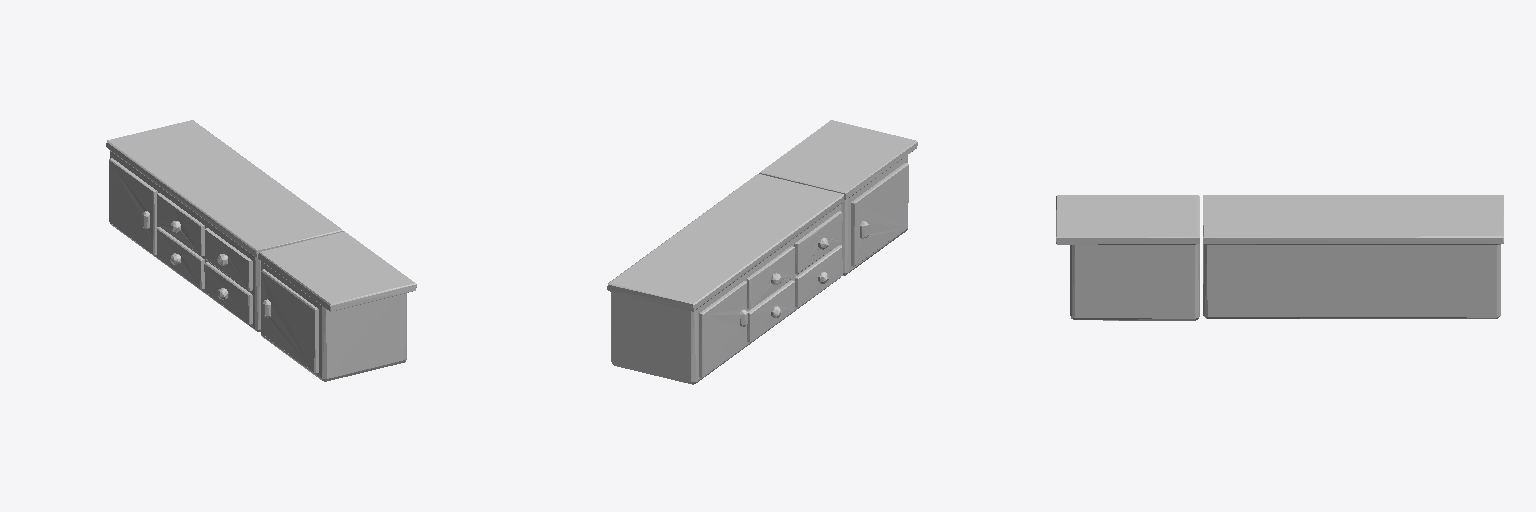
File: kommode.obj
The picture shows the model from 3 angles: view 1: azimuth 30°, elevation 25°; view 2: azimuth 150°, elevation 25°; view 3: azimuth 270°, elevation 25°; orthographic projection.
Parts seen in each view (by area): view 1: 282328_23_05_24_17_56_50_0.001; view 2: 282328_23_05_24_17_56_50_0.001; view 3: 282328_23_05_24_17_56_50_0.001.
Part boxes in pixels (x1,y1,x2,y2): 282328_23_05_24_17_56_50_0.001: (106,120,416,381); 282328_23_05_24_17_56_50_0.001: (607,120,917,384); 282328_23_05_24_17_56_50_0.001: (1056,195,1503,320).
Size of the model in its own units: 2.17 by 1.81 by 8.59.